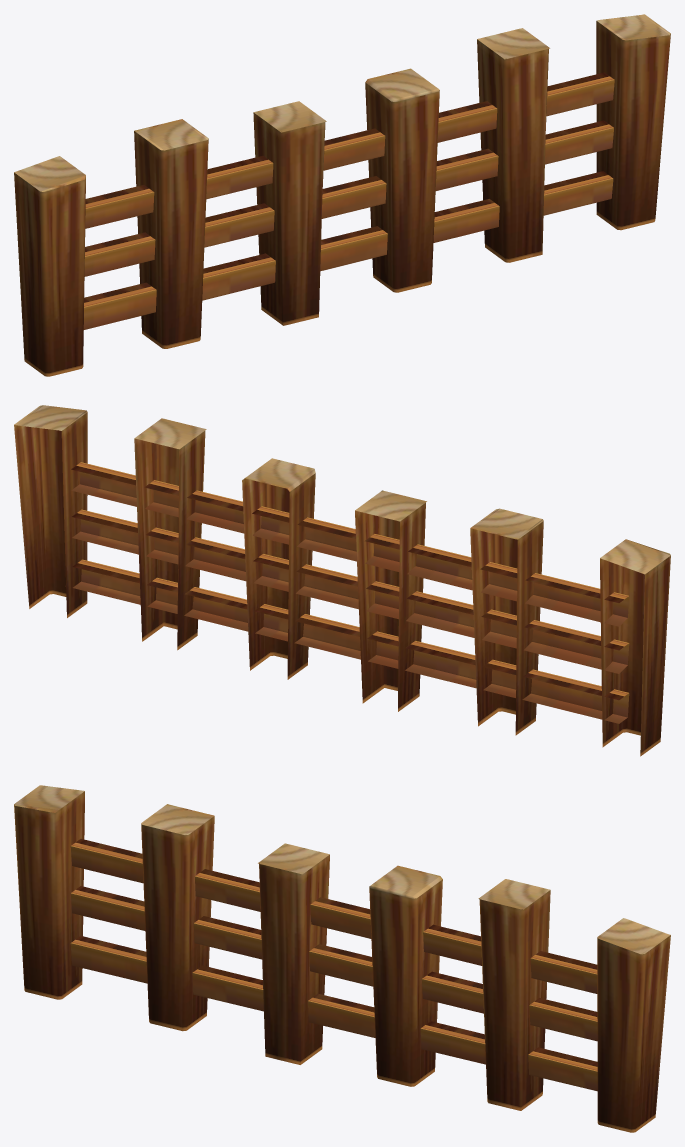
File: fobj_fence.obj
3 views of the same model, one above another, from view 1: azimuth 30°, elevation 25°; view 2: azimuth 150°, elevation 25°; view 3: azimuth 330°, elevation 25° (orthographic).
Visible parts, largest first — view 1: vsn_mesh_0__mesh_0_.002; view 2: vsn_mesh_0__mesh_0_.002; view 3: vsn_mesh_0__mesh_0_.002.
Boxes of the visible parts, box(x1,y1,x2,y2) form: vsn_mesh_0__mesh_0_.002: box(14, 14, 670, 376); vsn_mesh_0__mesh_0_.002: box(14, 405, 670, 756); vsn_mesh_0__mesh_0_.002: box(14, 785, 670, 1132).
Bounding box in the file's own units: 129 × 41.89 × 11.38.
1 material, 1 textured.
